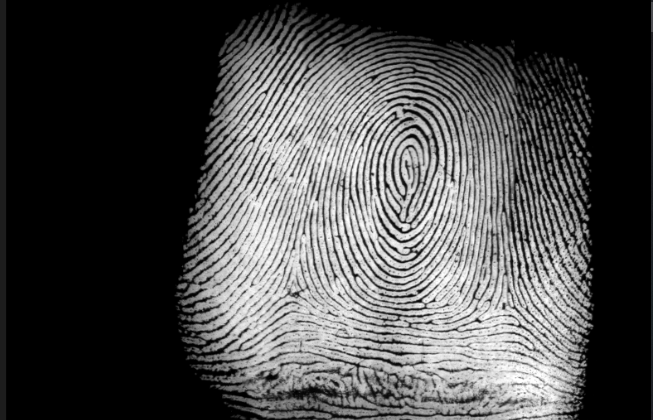nucelo: (389, 133, 426, 202)
verticilo: (489, 288, 520, 321), (281, 283, 305, 306)
